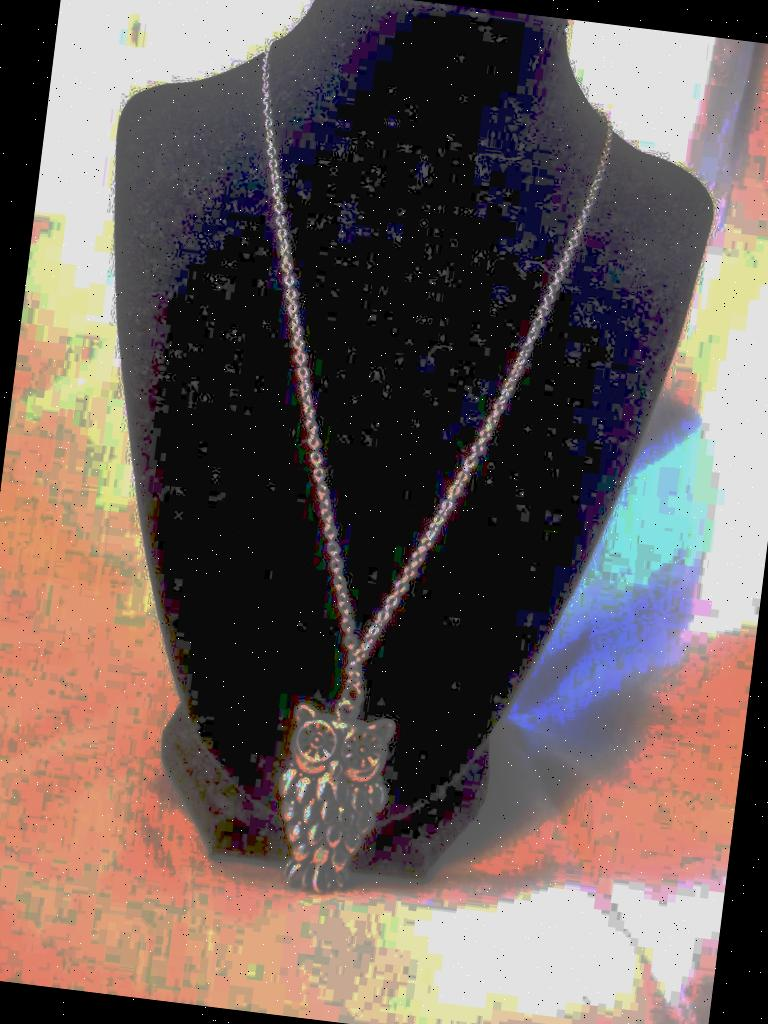Owl: (267, 700, 400, 894)
